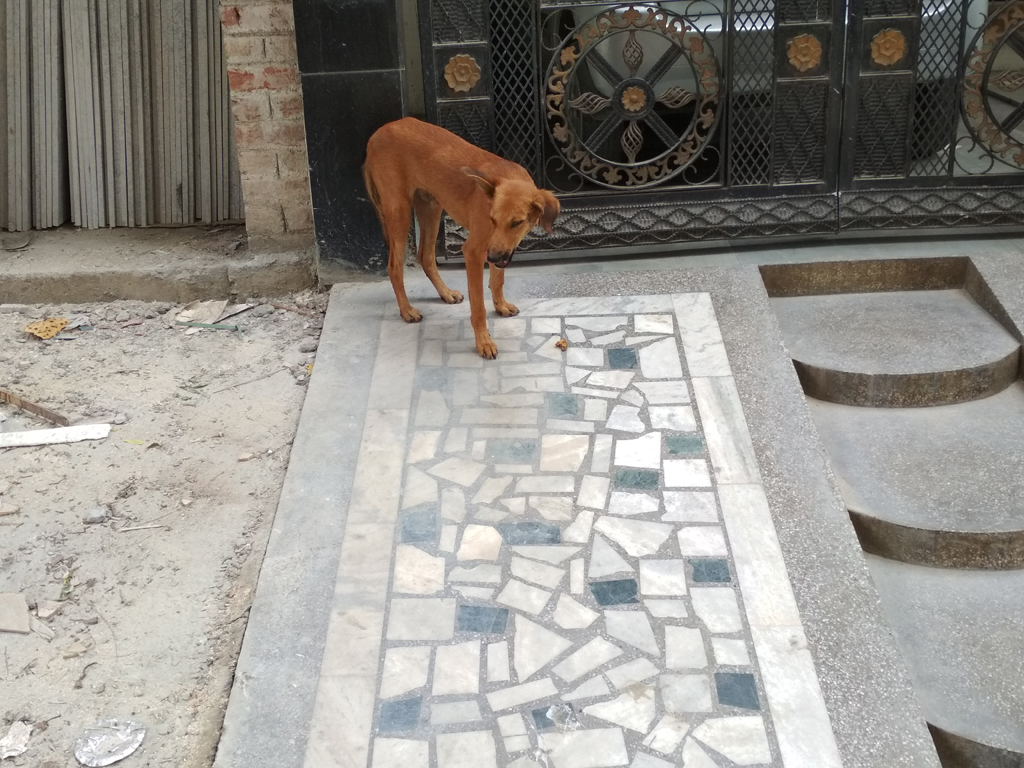dog: (363, 115, 560, 359)
